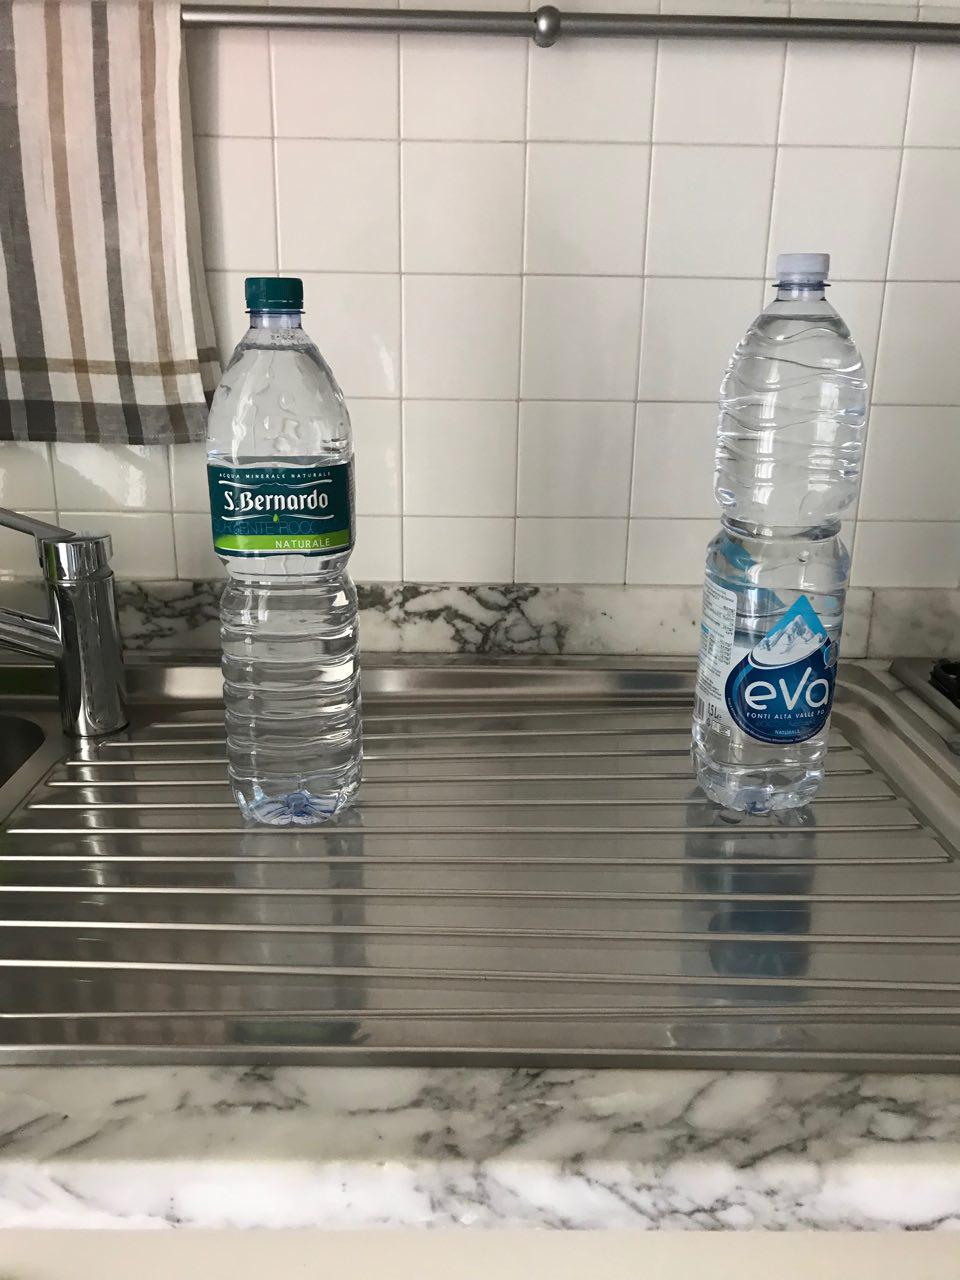san_bernardo: (204, 275, 363, 827)
